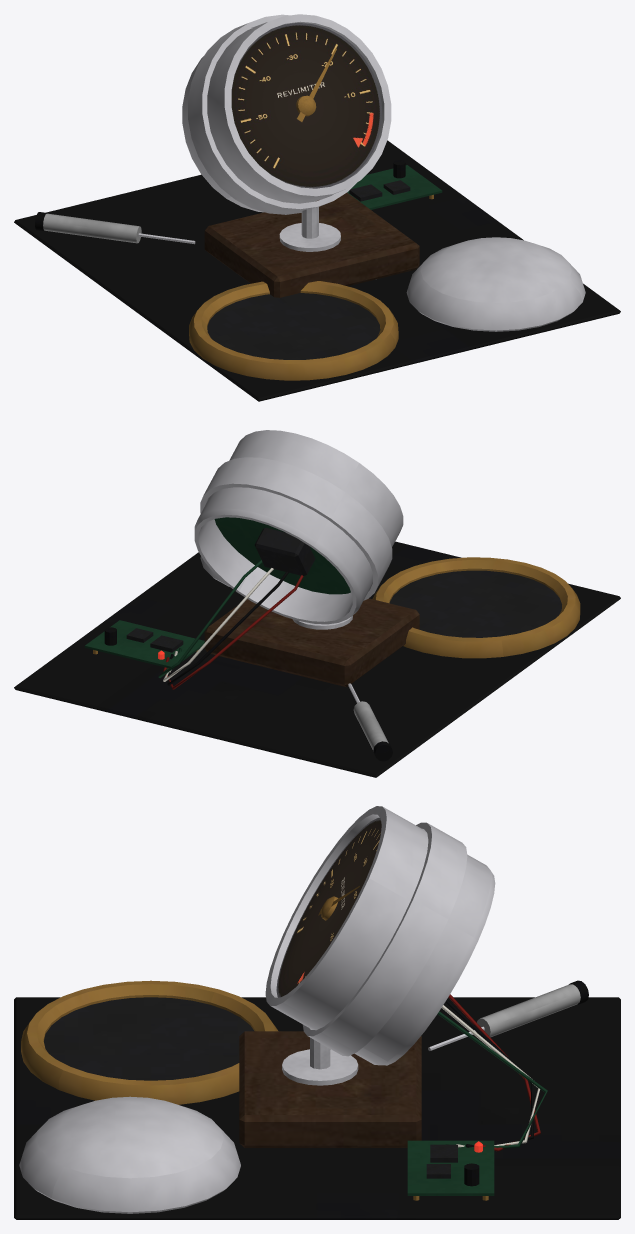
File: rpm-gauge.glb
3 renders of one model, top to bottom at view 1: azimuth 30°, elevation 25°; view 2: azimuth 150°, elevation 25°; view 3: azimuth 270°, elevation 25°, orthographic. The views are drawn at different scales.
Visible parts, largest first — view 1: rpm_gauge; view 2: rpm_gauge; view 3: rpm_gauge.
Part boxes in pixels (x1,y1,x2,y2): rpm_gauge: [14, 14, 620, 401]; rpm_gauge: [14, 430, 620, 777]; rpm_gauge: [14, 806, 620, 1219].
Bounding box in the file's own units: 0.3 × 0.184 × 0.35.
2 materials, 2 textured.
